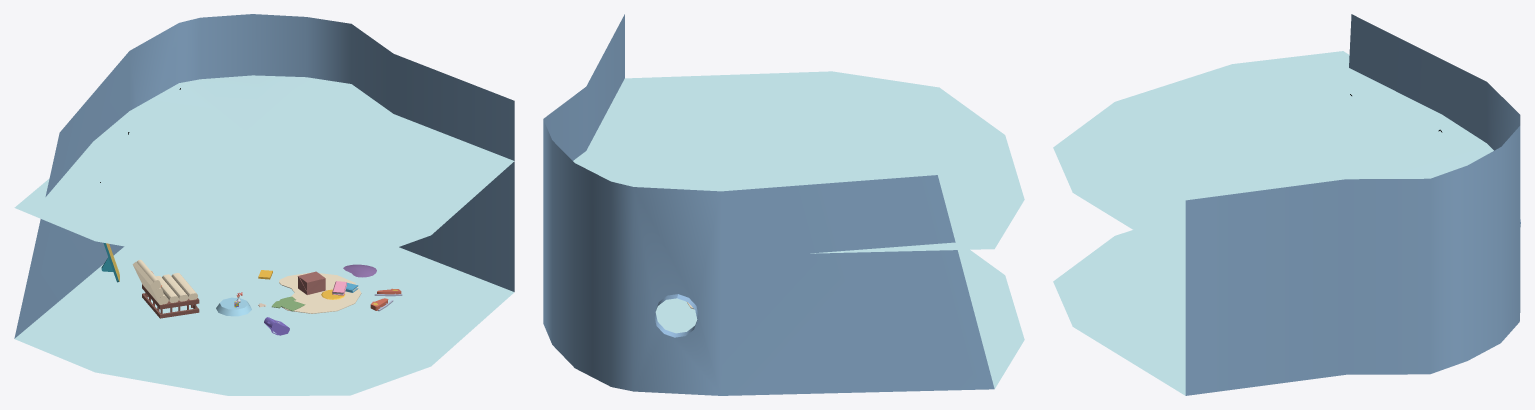
Rendered from DressUp_Neutral_01.fbx.
3 views of the same model, side by side, from view 1: azimuth 30°, elevation 25°; view 2: azimuth 150°, elevation 25°; view 3: azimuth 270°, elevation 25° (orthographic). The views are drawn at different scales.
Visible parts, largest first — view 1: Walls1, Ceiling, Items; view 2: Walls1, Ceiling; view 3: Walls1, Ceiling.
Part boxes in pixels (x1,y1,x2,y2): Walls1: [14, 14, 514, 395]; Ceiling: [14, 75, 514, 264]; Items: [100, 88, 402, 335]; Walls1: [543, 14, 1024, 395]; Ceiling: [573, 71, 1024, 253]; Walls1: [1053, 14, 1520, 395]; Ceiling: [1053, 51, 1493, 261].
Bounding box in the file's own units: 1179 × 518 × 1105.
